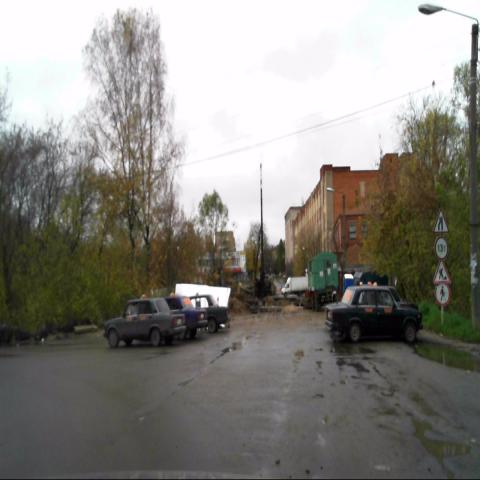1_20_3: (432, 207, 450, 235)
3_10: (434, 283, 451, 307)
3_11: (434, 236, 449, 260)
